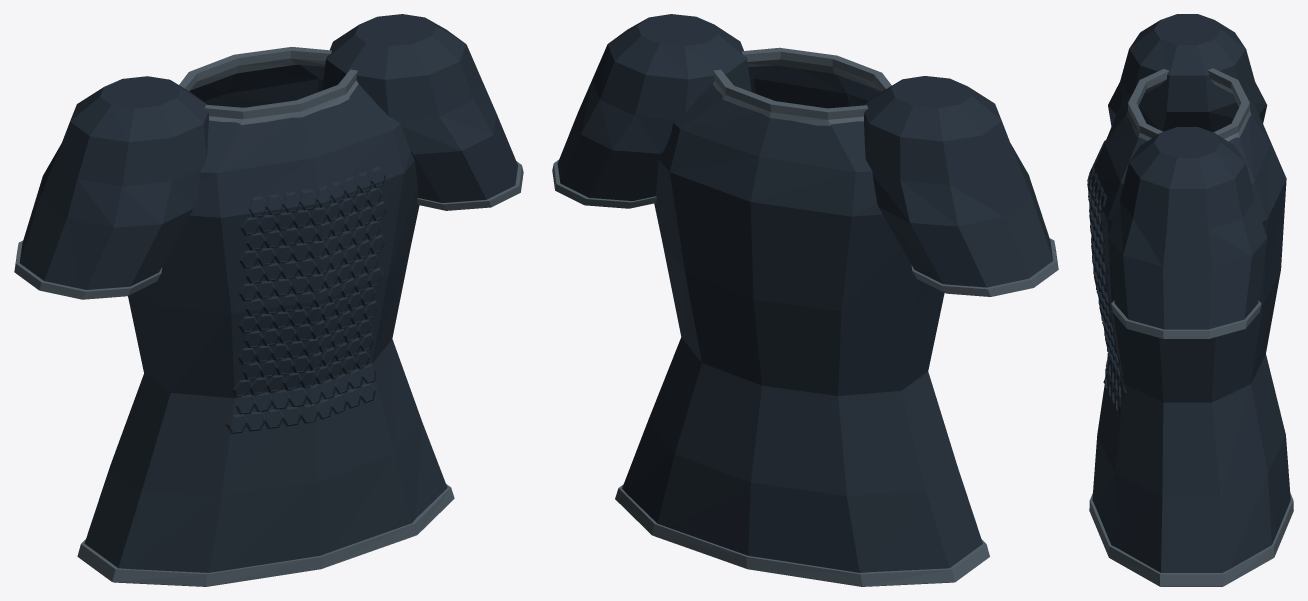
File: ring_chest-female.glb
3 renders of one model, left to right at view 1: azimuth 30°, elevation 25°; view 2: azimuth 150°, elevation 25°; view 3: azimuth 270°, elevation 25°, orthographic. The views are drawn at different scales.
Visible parts, largest first — view 1: ring tunic torso, ring upper sleeve -1, ring upper sleeve 1, ring woven coverage on ring tunic torso, Bound tunic hem, Fitted tunic neckline, Sleeve cuff binding -1, Sleeve cuff binding 1; view 2: ring tunic torso, ring upper sleeve -1, ring upper sleeve 1, Bound tunic hem, Fitted tunic neckline, Sleeve cuff binding -1, Sleeve cuff binding 1; view 3: ring tunic torso, ring upper sleeve 1, ring upper sleeve -1, ring woven coverage on ring tunic torso, Bound tunic hem, Fitted tunic neckline, Sleeve cuff binding 1.
Boxes of the visible parts, x1=… form: ring tunic torso: x1=84, y1=64, x2=447, y2=586; ring upper sleeve -1: x1=19, y1=76, x2=208, y2=289; ring upper sleeve 1: x1=322, y1=14, x2=517, y2=202; ring woven coverage on ring tunic torso: x1=225, y1=166, x2=387, y2=434; Bound tunic hem: x1=77, y1=484, x2=454, y2=586; Fitted tunic neckline: x1=179, y1=47, x2=358, y2=124; Sleeve cuff binding -1: x1=14, y1=240, x2=162, y2=299; Sleeve cuff binding 1: x1=417, y1=161, x2=523, y2=210; ring tunic torso: x1=622, y1=65, x2=982, y2=586; ring upper sleeve -1: x1=863, y1=76, x2=1053, y2=287; ring upper sleeve 1: x1=557, y1=14, x2=751, y2=200; Bound tunic hem: x1=615, y1=484, x2=989, y2=586; Fitted tunic neckline: x1=712, y1=47, x2=891, y2=125; Sleeve cuff binding -1: x1=911, y1=238, x2=1058, y2=296; Sleeve cuff binding 1: x1=552, y1=160, x2=656, y2=208; ring tunic torso: x1=1088, y1=92, x2=1290, y2=586; ring upper sleeve 1: x1=1108, y1=127, x2=1267, y2=329; ring upper sleeve -1: x1=1108, y1=14, x2=1267, y2=132; ring woven coverage on ring tunic torso: x1=1087, y1=140, x2=1127, y2=413; Bound tunic hem: x1=1089, y1=493, x2=1293, y2=586; Fitted tunic neckline: x1=1126, y1=68, x2=1251, y2=141; Sleeve cuff binding 1: x1=1111, y1=300, x2=1261, y2=338.
Bounding box in the file's own units: 3.17 × 2.93 × 1.29.
